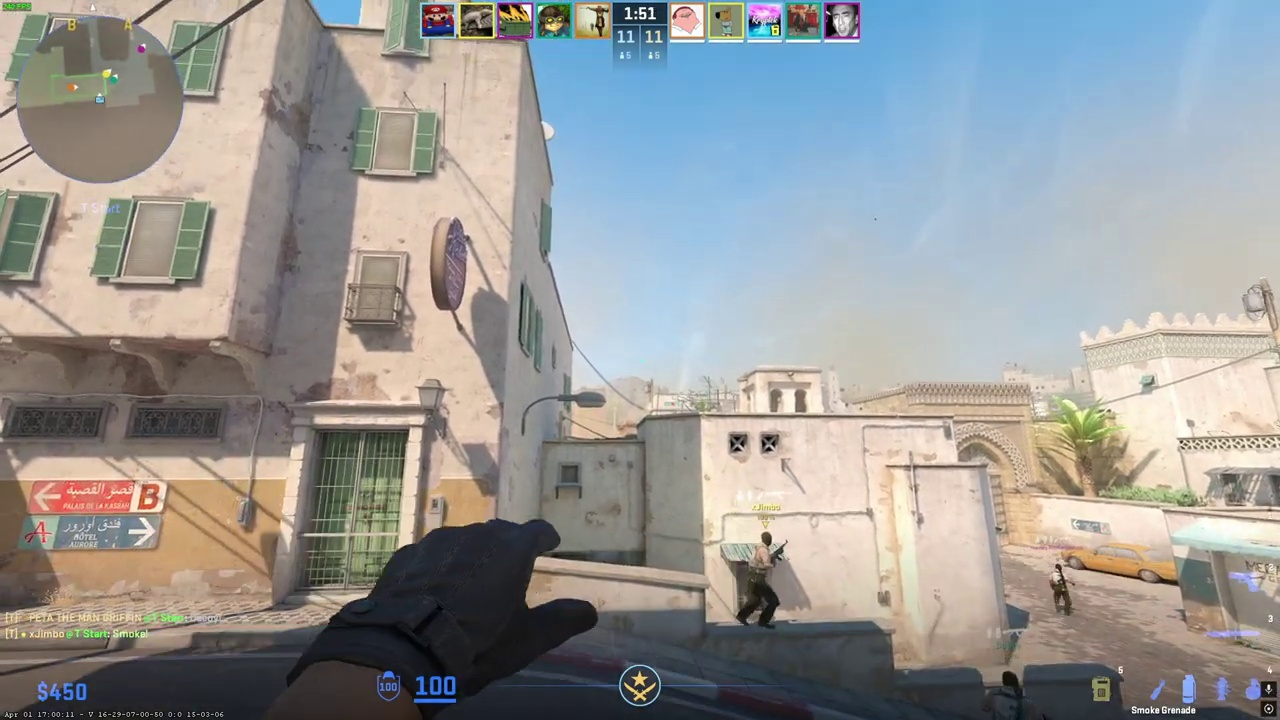Terrorist: (736, 532, 785, 629), (980, 671, 1044, 720), (1048, 563, 1074, 616)
